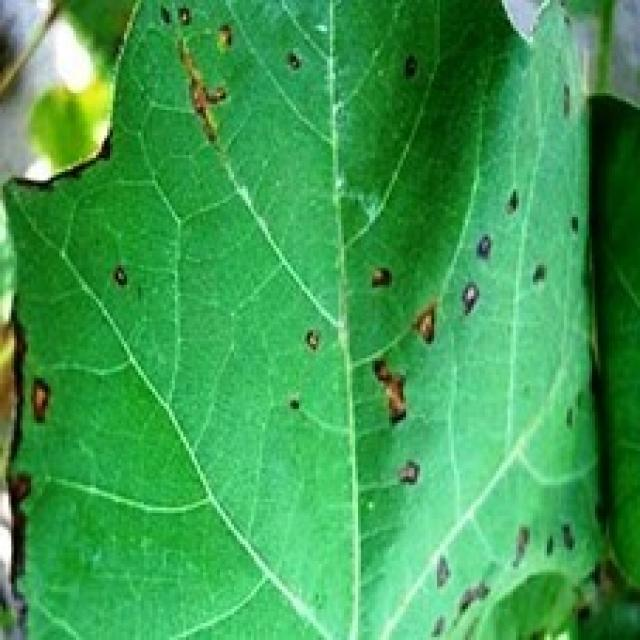Downy_Mildew: (351, 152, 608, 438), (101, 6, 286, 198), (0, 287, 98, 595), (422, 511, 592, 636)
